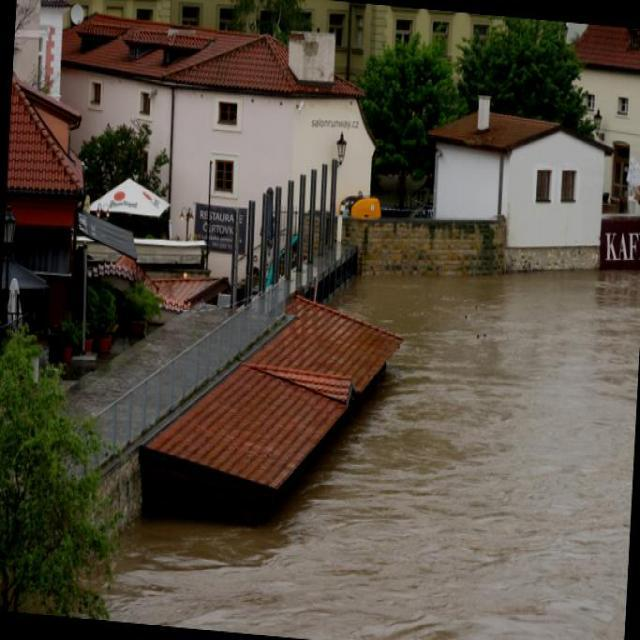flood: (94, 239, 639, 639)
